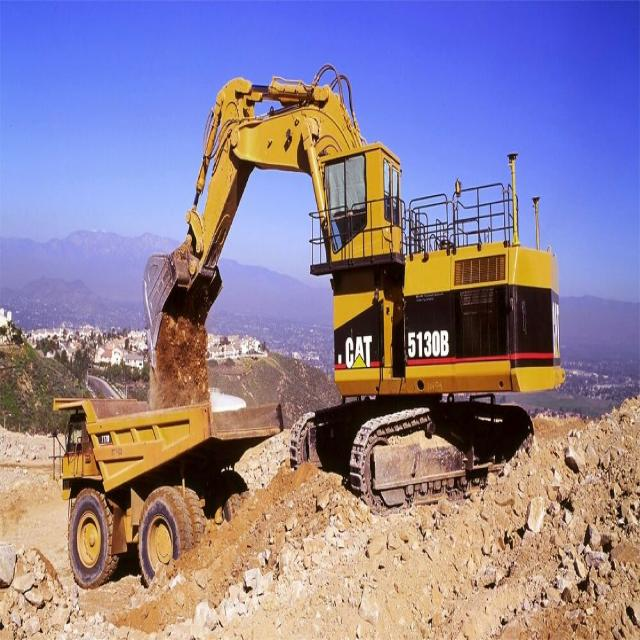dump_truck: (48, 376, 284, 602)
excavator: (138, 57, 563, 523)
